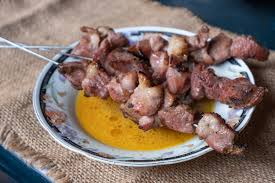sate: (61, 21, 275, 160)
